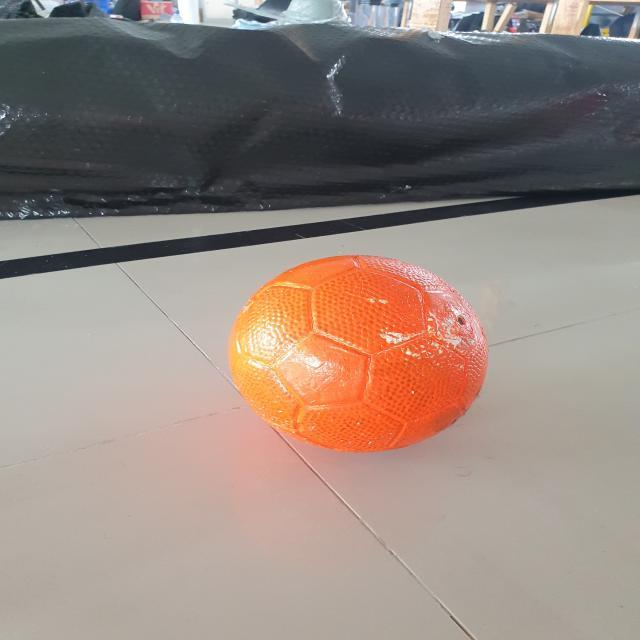bola: (196, 246, 522, 466)
